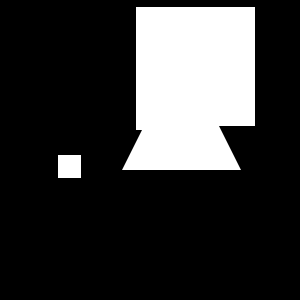circle: (136, 7, 255, 126), (136, 69, 197, 130), (58, 155, 81, 178)
triangle: (122, 51, 241, 170)
